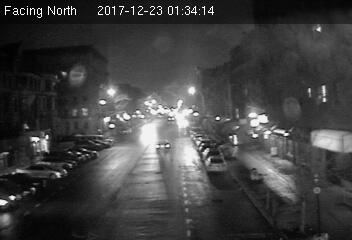car: (205, 156, 226, 173), (154, 139, 173, 151)
